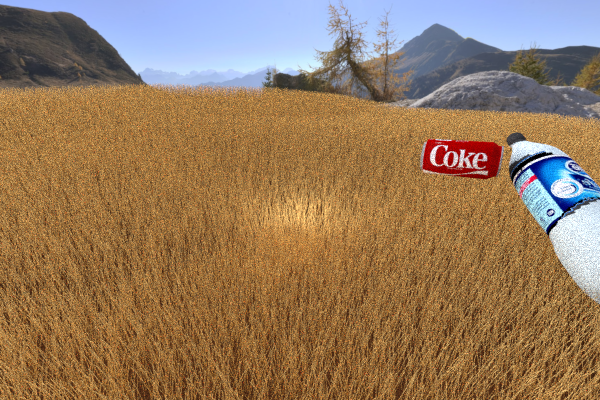Plastic Bottle: (505, 131, 600, 311), (142, 96, 176, 118), (216, 100, 253, 120)
